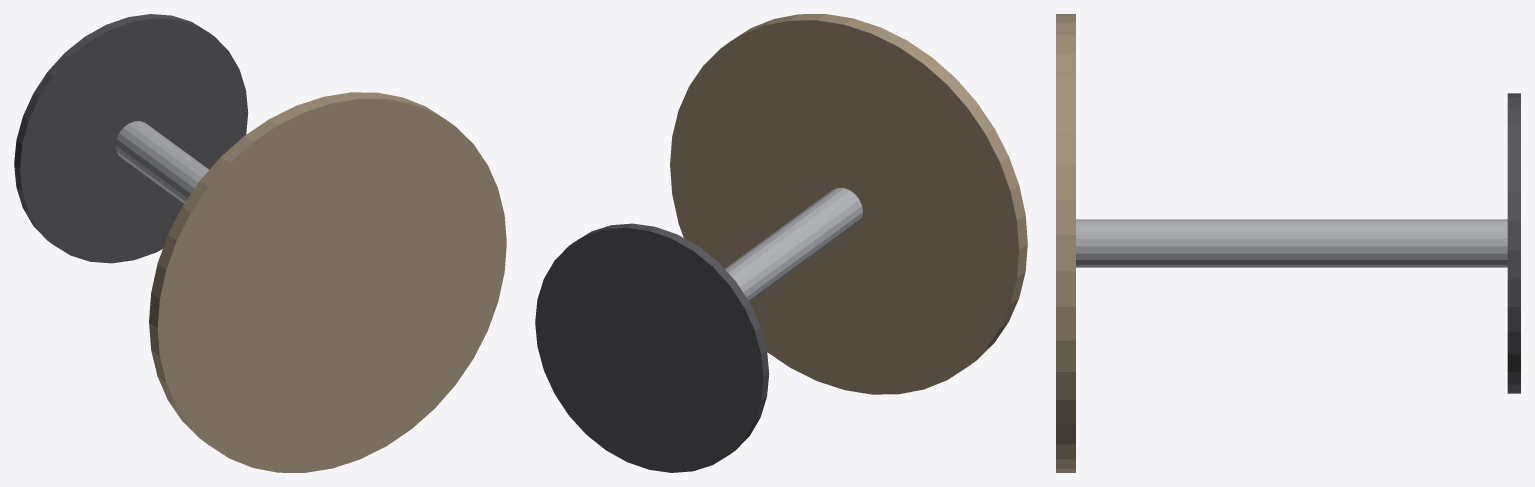
The model's file is collab_table.glb.
3 views of the same model, side by side, from view 1: azimuth 30°, elevation 25°; view 2: azimuth 150°, elevation 25°; view 3: azimuth 270°, elevation 25° (orthographic). The views are drawn at different scales.
Parts seen in each view (by area): view 1: collab_top, collab_foot, collab_column; view 2: collab_top, collab_foot, collab_column; view 3: collab_column, collab_top, collab_foot.
Part boxes in pixels (x1,y1,x2,y2): collab_top: (149,92,506,472); collab_foot: (14,14,248,263); collab_column: (115,121,208,203); collab_top: (670,14,1027,394); collab_foot: (535,223,769,472); collab_column: (725,187,862,302); collab_column: (1076,219,1507,267); collab_top: (1056,14,1075,472); collab_foot: (1507,93,1520,393).
Bounding box in the file's own units: 1.04 × 1.04 × 1.05.
